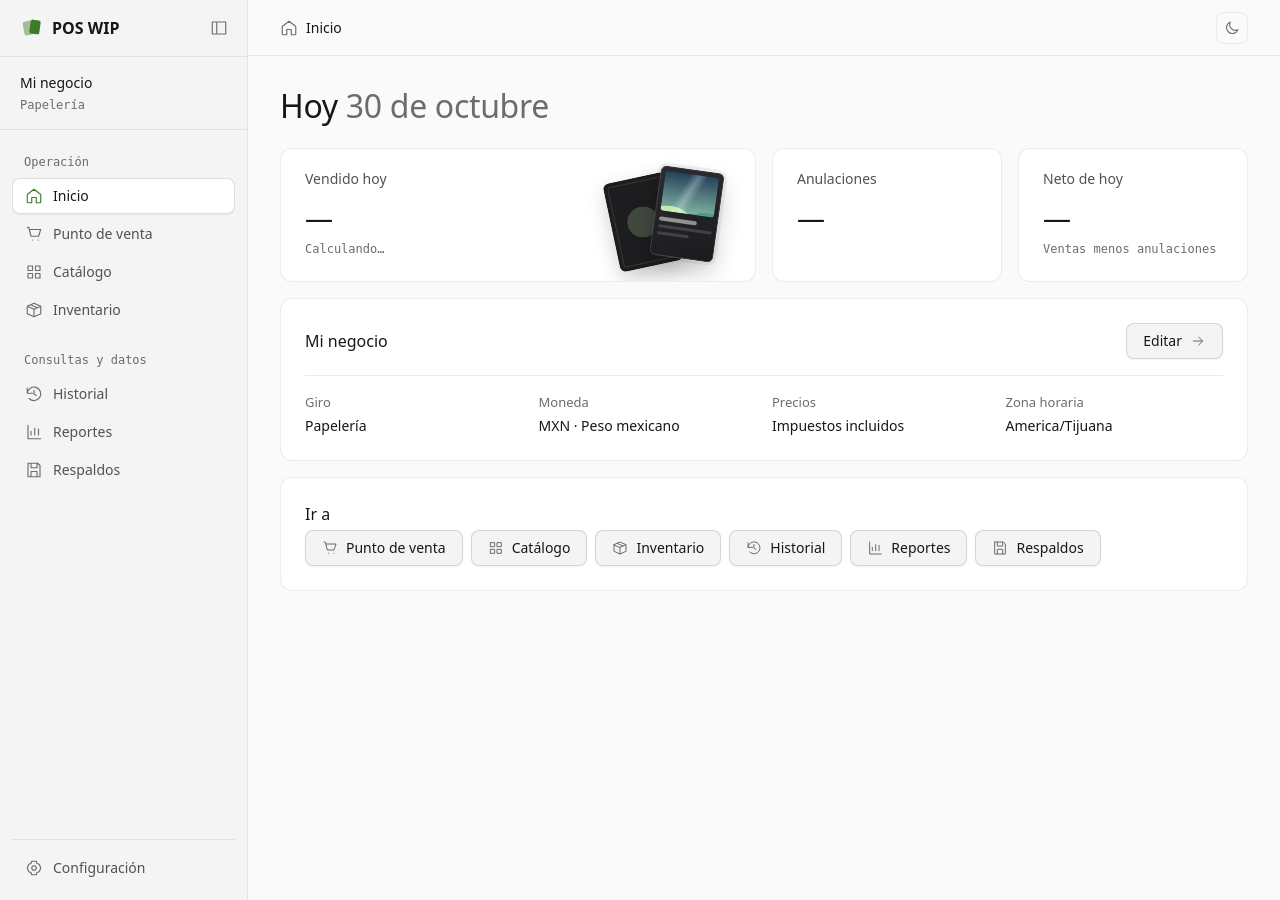
it: flujo del POS (puente Tauri simulado) › entra directamente al menú con preferencias guardadas y edita configuración desde abajo
The image size is (1280, 900).
Expected: the button "Catálogo" below "Operación" is enabled, [12, 254, 235, 290]
Click the button "Configuración" at (124, 868), box [12, 850, 235, 886]
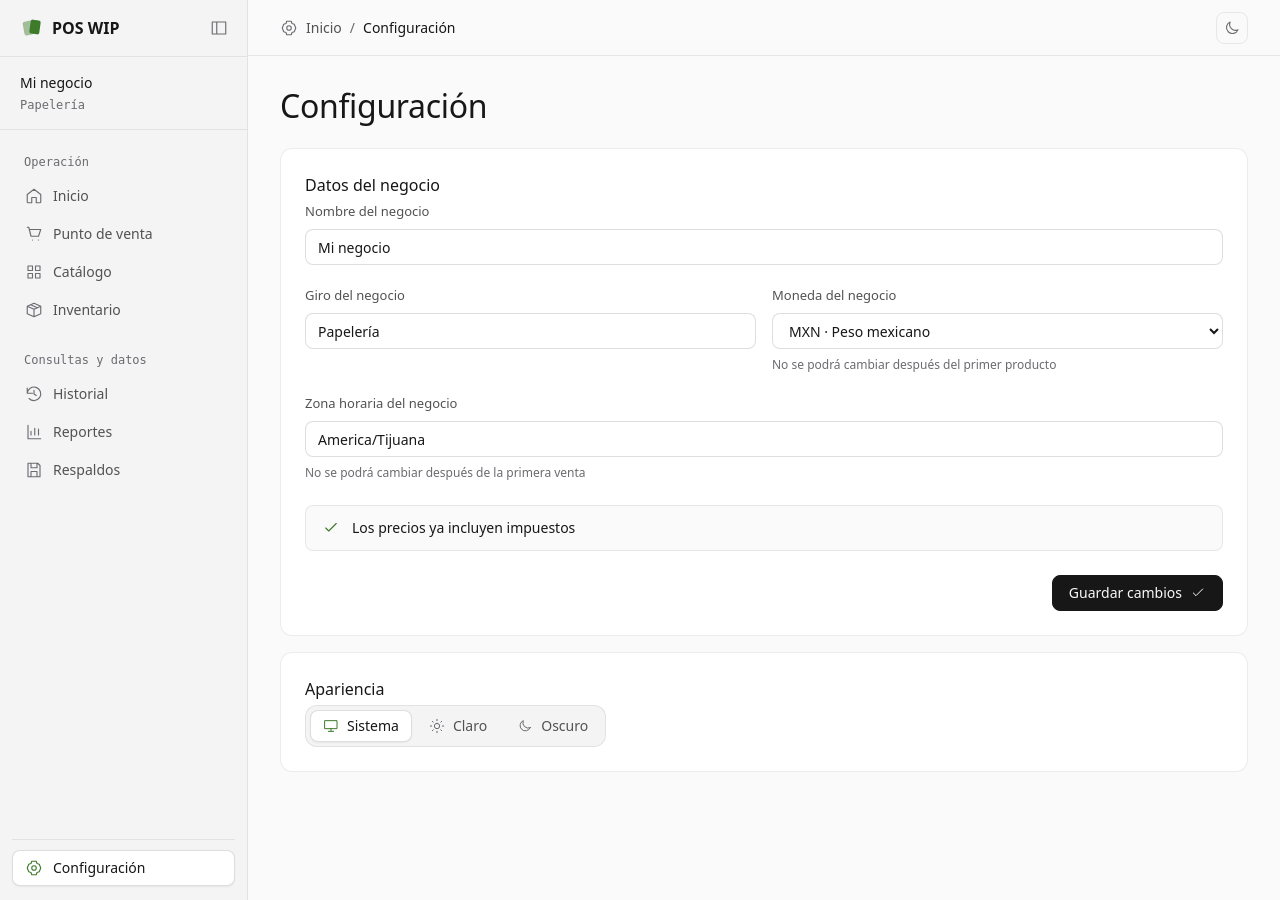
Expected: the field labelled "Giro del negocio" holds "Papelería"
Replace the text in the field labelled "Giro del negocio" with "Ferretería" at (530, 331), box [305, 313, 756, 349]
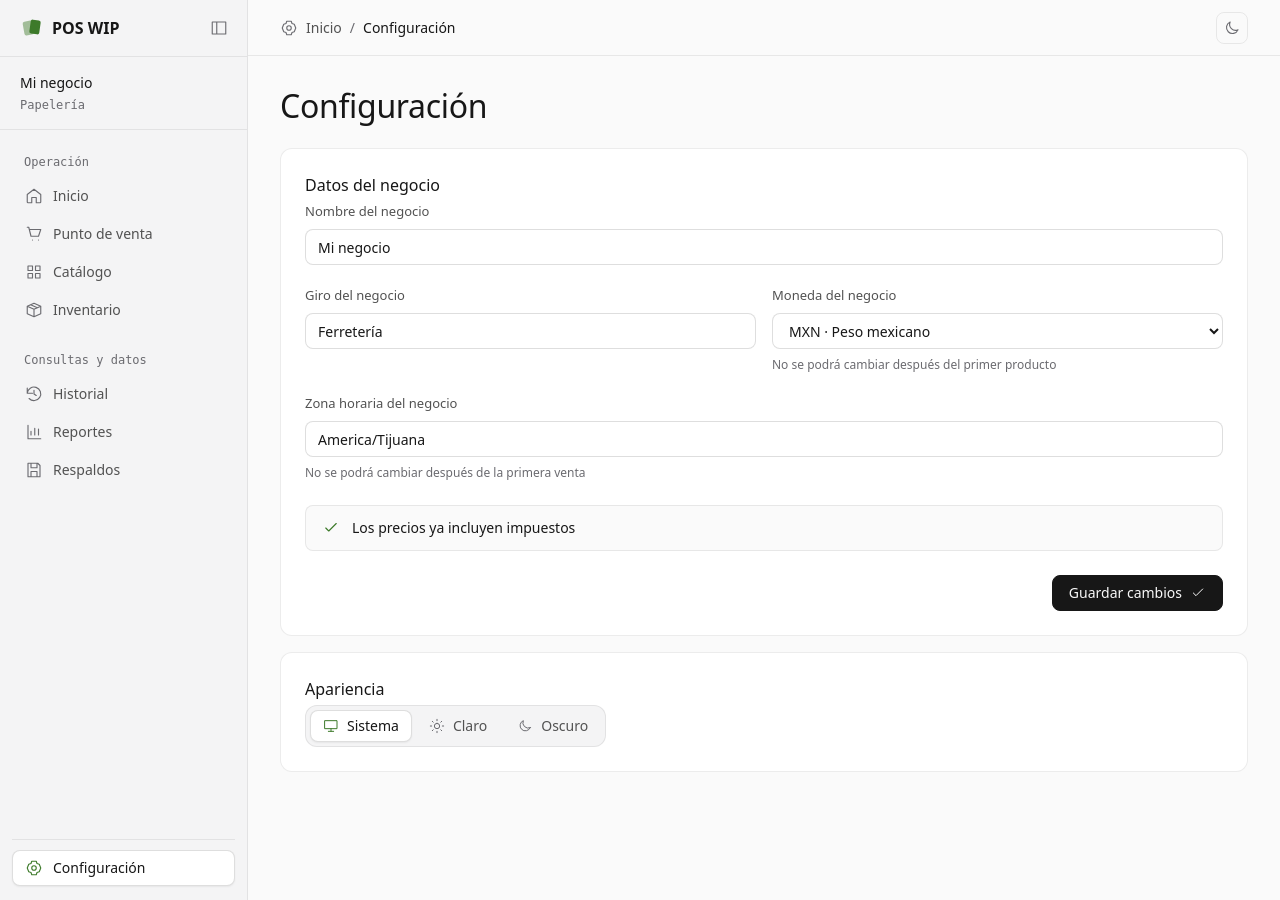
Click the button "Guardar cambios" at (1137, 593), box [1052, 575, 1223, 611]
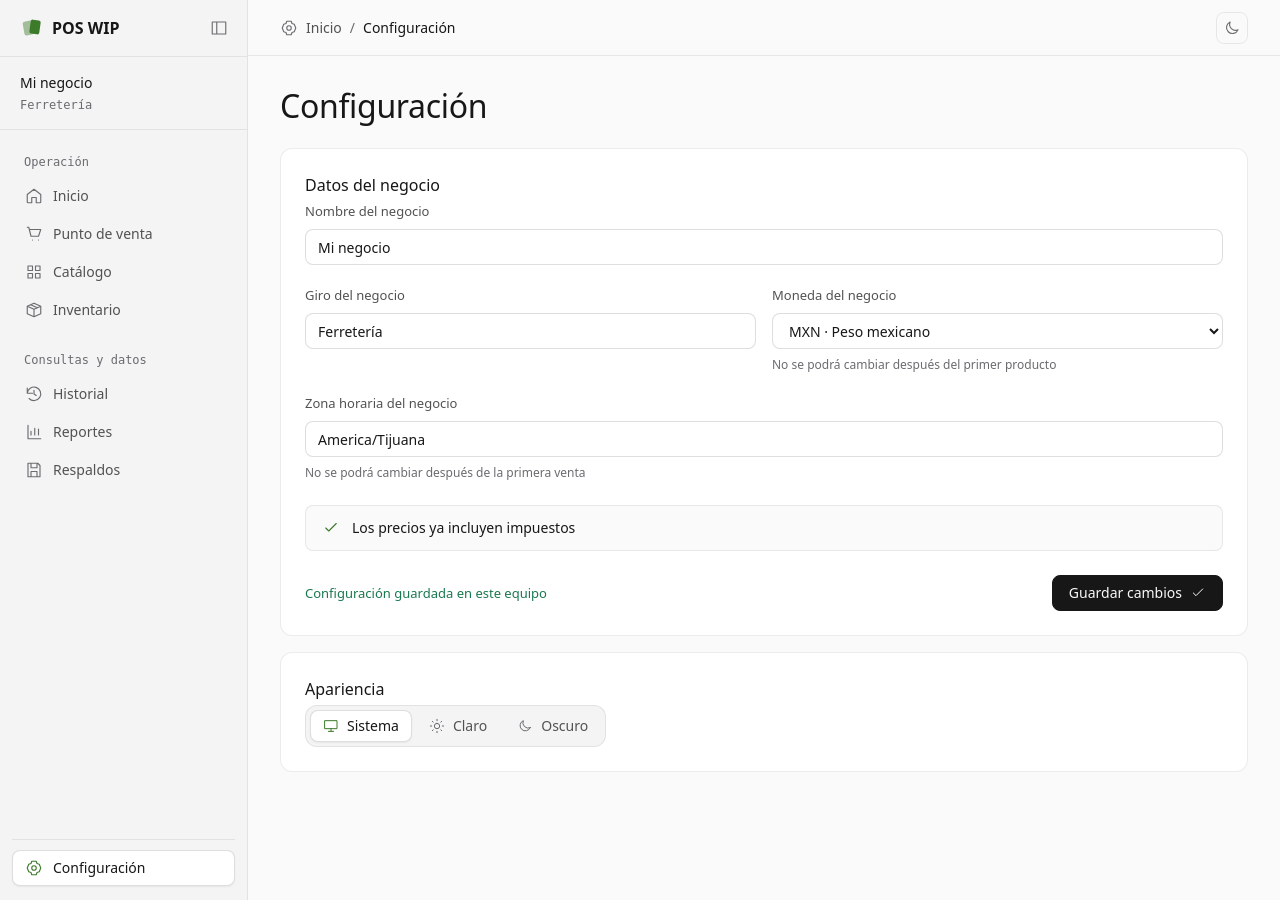
Expected: the text "Configuración guardada en este equipo" is shown, [305, 583, 547, 603]
Expected: the text "Ferretería" is shown, [20, 98, 92, 112]
